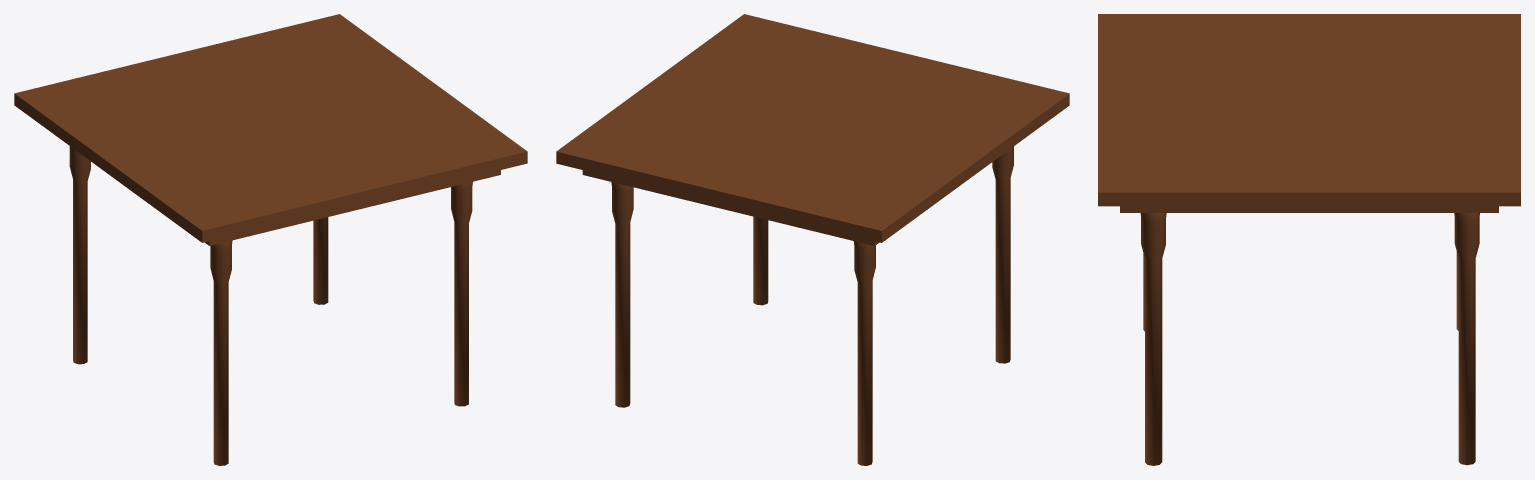
The model's file is SquareTable.fbx.
3 views of the same model, side by side, from view 1: azimuth 30°, elevation 25°; view 2: azimuth 150°, elevation 25°; view 3: azimuth 270°, elevation 25° (orthographic). The views are drawn at different scales.
Parts seen in each view (by area): view 1: Cylinder.002; view 2: Cylinder.002; view 3: Cylinder.002.
Boxes of the visible parts, x1,y1,x2,y2 form: Cylinder.002: [14, 14, 527, 465]; Cylinder.002: [556, 14, 1069, 465]; Cylinder.002: [1098, 14, 1520, 465].
Bounding box in the file's own units: 99.6 × 75.99 × 99.6.
